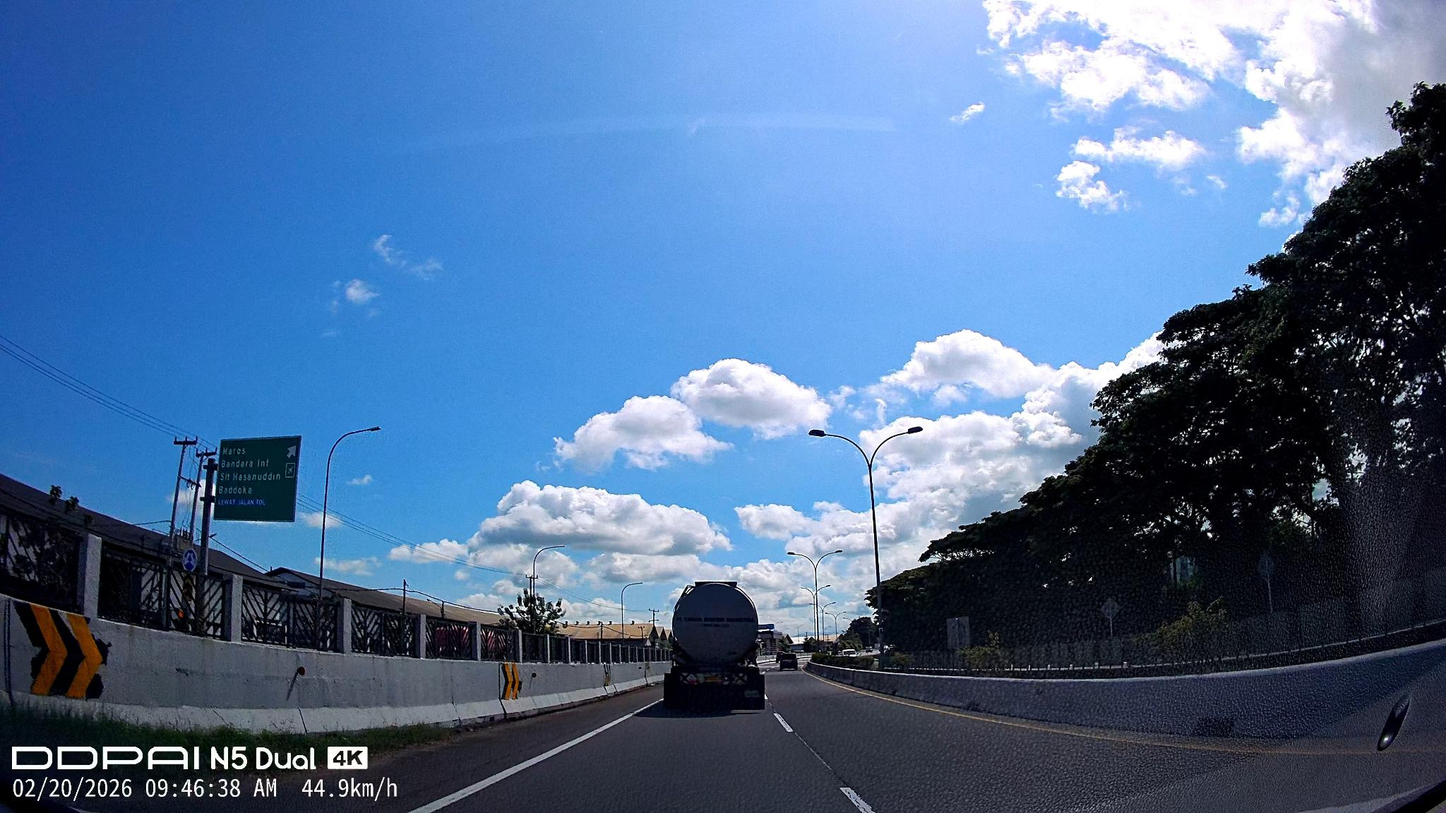rambu_teks: (211, 434, 302, 523)
